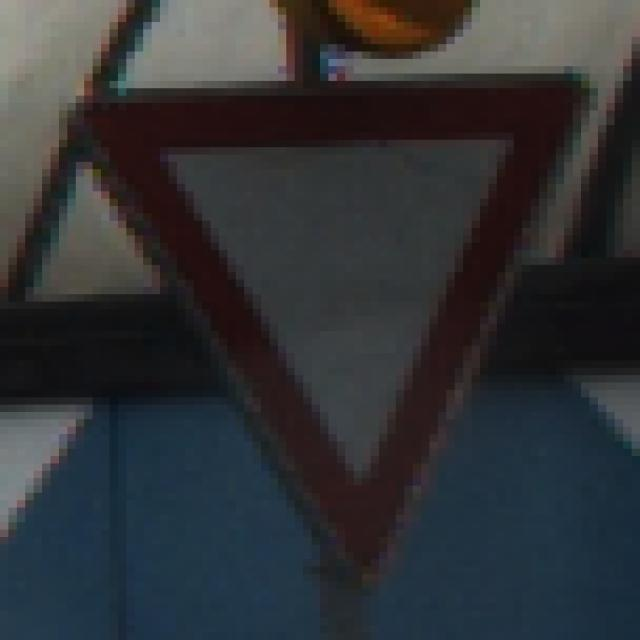Give Way: (60, 60, 590, 589)
